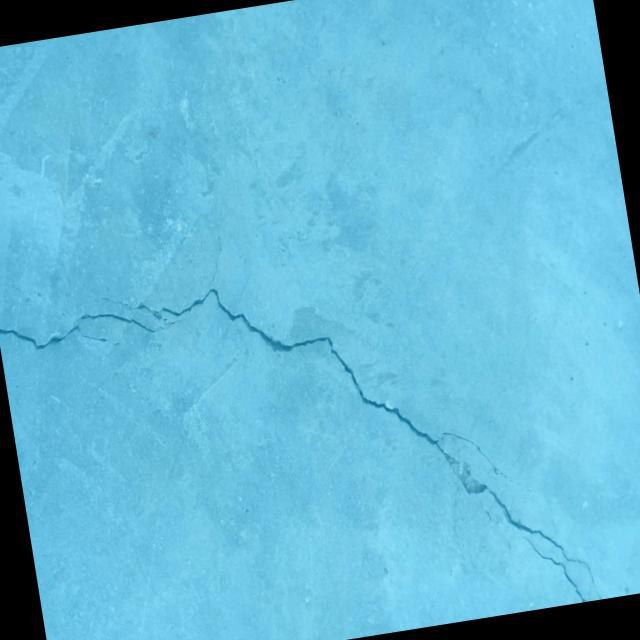crack: (0, 228, 602, 640), (521, 526, 588, 610), (201, 223, 228, 284)
